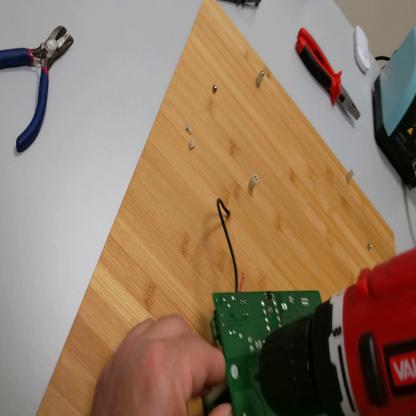electric screwdriver: (254, 247, 416, 414)
hand: (91, 315, 232, 415)
low voltage board: (200, 197, 323, 416)
pliers: (2, 10, 75, 154), (294, 27, 363, 124)
welder station: (372, 27, 416, 193)
working area: (36, 3, 416, 415)
